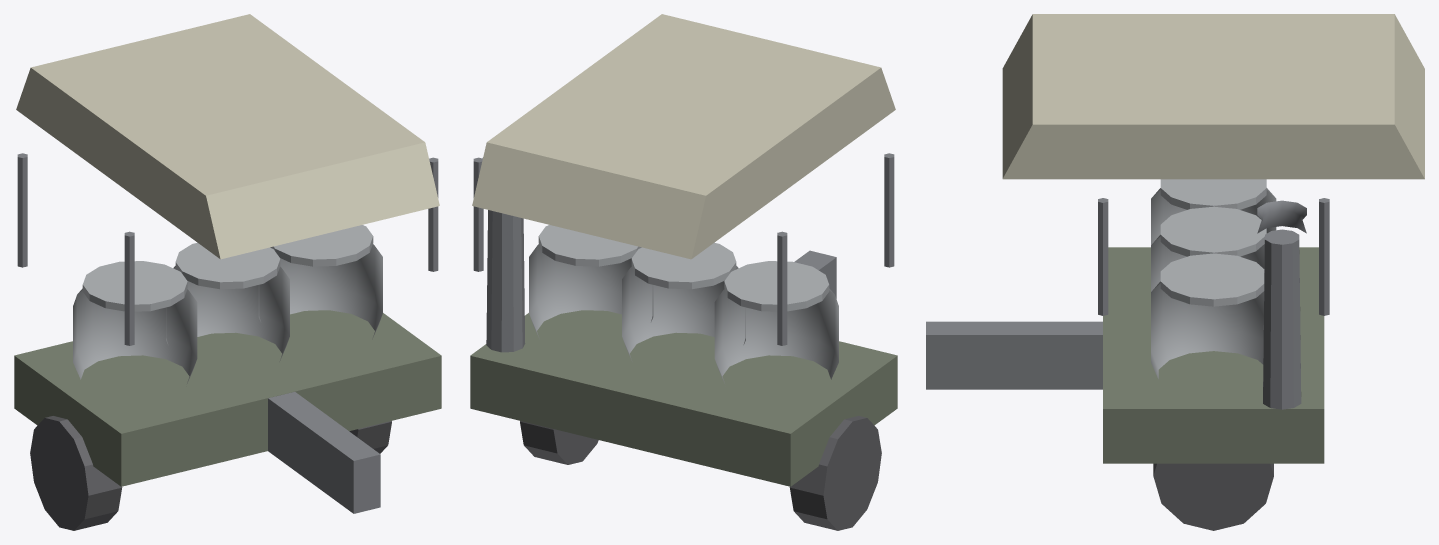
The model's file is armoured-column-and-field-camp-field-kitchen-f714a640__23728.glb.
3 renders of one model, left to right at view 1: azimuth 30°, elevation 25°; view 2: azimuth 150°, elevation 25°; view 3: azimuth 270°, elevation 25°, orthographic. The views are drawn at different scales.
Visible parts, largest first — view 1: field-kitchen; view 2: field-kitchen; view 3: field-kitchen.
Part boxes in pixels (left/top/right/bottom): field-kitchen: left=14, top=14, right=441, bottom=530; field-kitchen: left=470, top=14, right=897, bottom=530; field-kitchen: left=926, top=14, right=1424, bottom=530.
Size of the model in its own units: 1.99 by 2.16 by 2.48.
